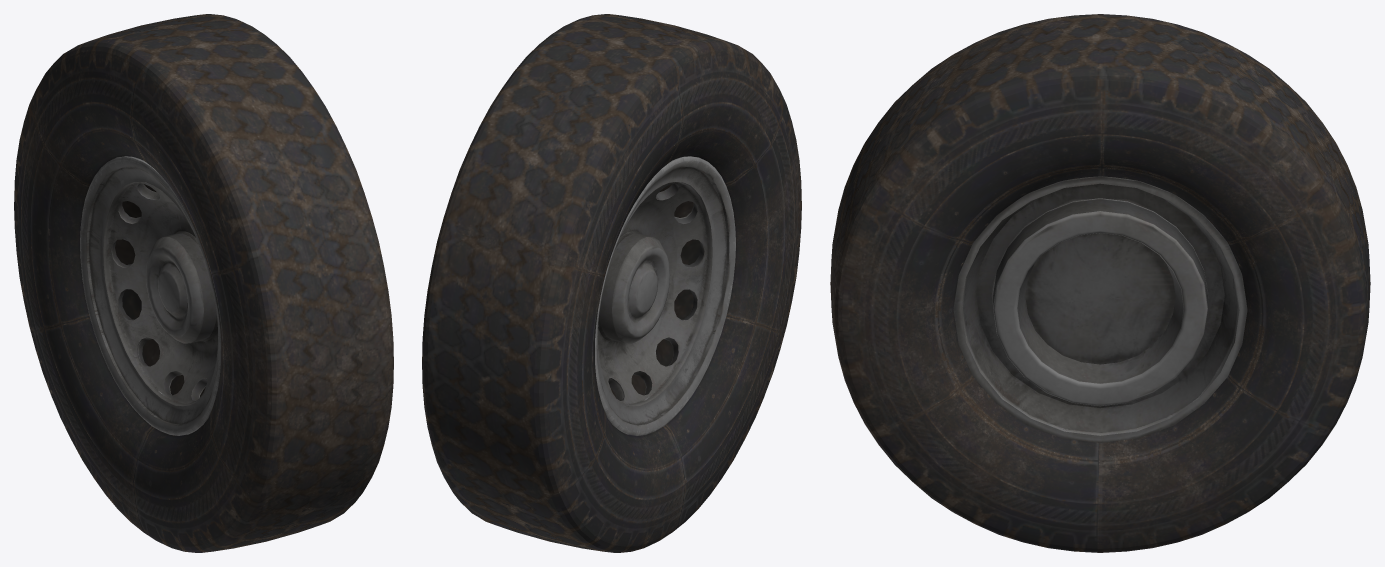
File: Wheel_colum.glb
3 renders of one model, left to right at view 1: azimuth 30°, elevation 25°; view 2: azimuth 150°, elevation 25°; view 3: azimuth 270°, elevation 25°, orthographic.
Visible parts, largest first — view 1: tyre; view 2: tyre; view 3: tyre.
Part boxes in pixels (left/top/right/bottom): tyre: left=14, top=14, right=393, bottom=552; tyre: left=422, top=14, right=801, bottom=552; tyre: left=830, top=14, right=1370, bottom=552.
Bounding box in the file's own units: 0.2002 × 0.64 × 0.64.
Materials: 1 (1 with a texture image).
